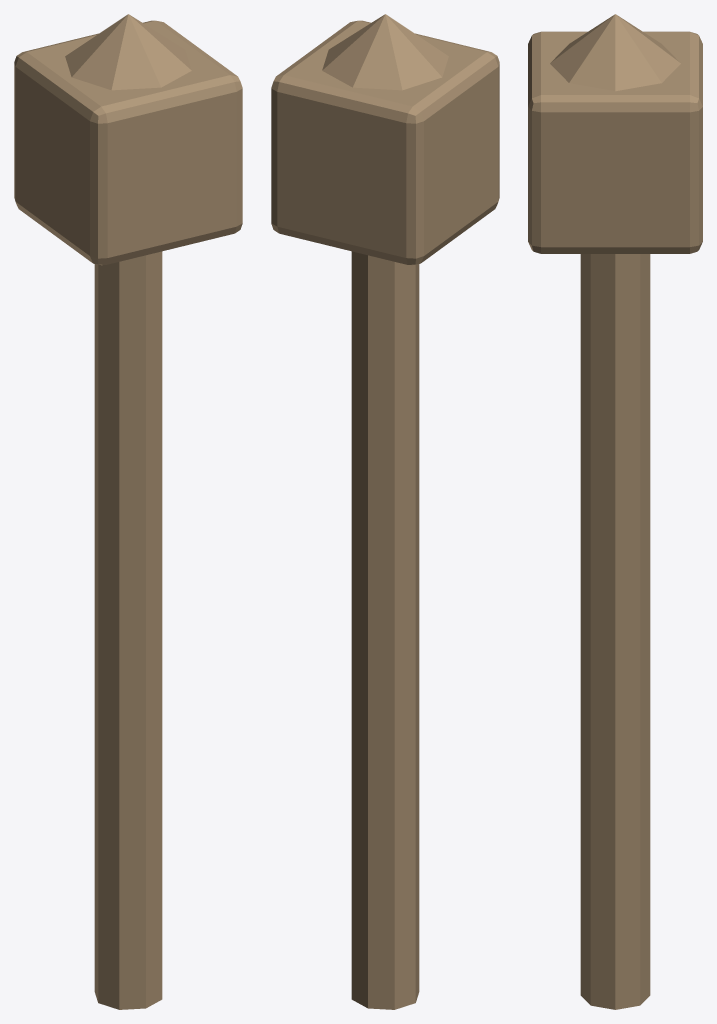
The model's file is lantern_01.glb.
3 renders of one model, left to right at view 1: azimuth 30°, elevation 25°; view 2: azimuth 150°, elevation 25°; view 3: azimuth 270°, elevation 25°, orthographic.
Visible parts, largest first — view 1: LanternPost, LampHousing, LampCap; view 2: LanternPost, LampHousing, LampCap; view 3: LanternPost, LampHousing, LampCap.
Part boxes in pixels (x1,y1,x2,y2): LanternPost: (94, 251, 162, 1009); LampHousing: (14, 20, 242, 265); LampCap: (65, 14, 191, 90); LanternPost: (351, 251, 419, 1009); LampHousing: (271, 20, 499, 265); LampCap: (322, 14, 448, 90); LanternPost: (580, 254, 650, 1009); LampHousing: (528, 31, 702, 253); LampCap: (550, 14, 680, 91).
Bounding box in the file's own units: 0.4 × 2.48 × 0.4.
